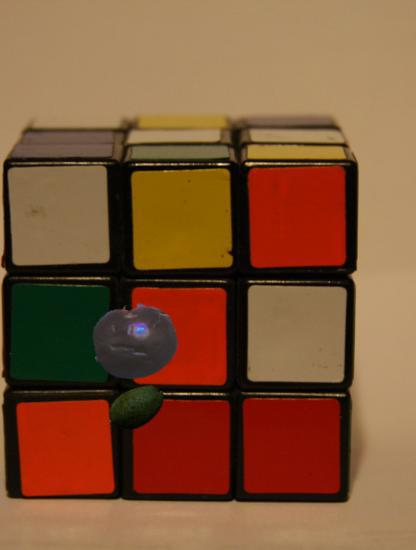Avocado: (107, 378, 167, 438)
Passion: (92, 297, 180, 385)
